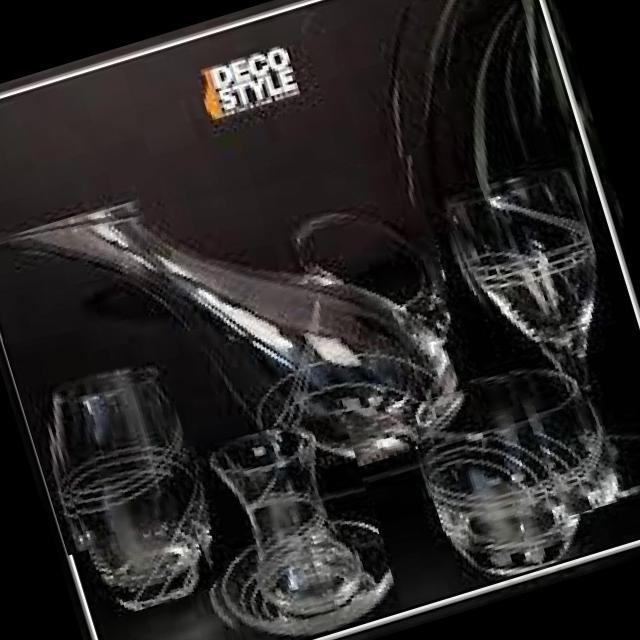Glass: (0, 113, 494, 555), (436, 159, 640, 526), (164, 399, 402, 640), (38, 346, 232, 618), (404, 359, 612, 591)
